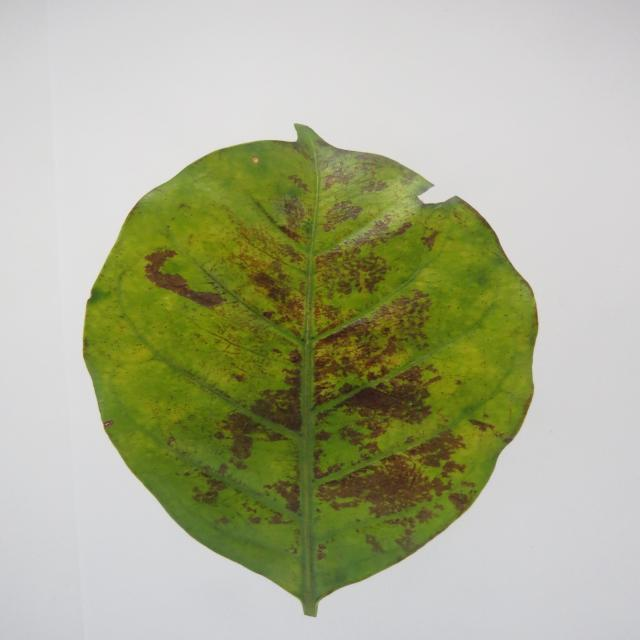DeficienciaNutricional-Potasio: (83, 125, 537, 615)
